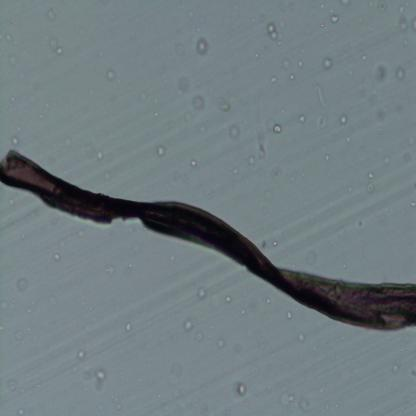Background material: (314, 83, 332, 130), (279, 388, 306, 414), (11, 271, 28, 296), (255, 133, 268, 163), (265, 162, 284, 180), (265, 23, 281, 44), (373, 63, 389, 84), (195, 35, 209, 57), (301, 249, 316, 268), (176, 74, 190, 94), (5, 375, 21, 392), (235, 379, 248, 399), (49, 38, 63, 56), (215, 96, 229, 114), (94, 368, 109, 383), (228, 124, 242, 140), (136, 89, 150, 105), (47, 7, 60, 24), (3, 29, 16, 46), (192, 96, 205, 112), (396, 66, 406, 86), (6, 54, 19, 69), (373, 106, 385, 122), (192, 328, 204, 343), (0, 293, 9, 313), (258, 232, 268, 250), (323, 56, 334, 71), (183, 317, 194, 332), (131, 240, 142, 255), (398, 17, 408, 33), (226, 162, 239, 174), (281, 56, 292, 70), (365, 181, 376, 195), (102, 264, 116, 275), (263, 291, 272, 307), (198, 287, 207, 302), (333, 226, 345, 237), (156, 144, 166, 157), (339, 113, 349, 126), (389, 359, 399, 372), (107, 68, 116, 82), (92, 380, 102, 392), (382, 153, 392, 165), (178, 44, 188, 56), (366, 170, 376, 182), (224, 294, 233, 307), (298, 113, 307, 126), (217, 337, 225, 351), (272, 124, 282, 135), (103, 171, 113, 182), (330, 13, 340, 24), (247, 155, 256, 167), (297, 332, 306, 344), (124, 321, 132, 334), (196, 124, 206, 134), (12, 136, 21, 147), (190, 158, 198, 170), (286, 309, 294, 321), (316, 384, 325, 394), (78, 227, 85, 239), (54, 251, 61, 263), (358, 215, 364, 229), (270, 76, 278, 86), (96, 152, 104, 162), (78, 349, 84, 362), (345, 135, 352, 146), (272, 238, 280, 247), (360, 52, 367, 62), (324, 154, 331, 163), (240, 307, 247, 316), (116, 402, 122, 412), (297, 60, 304, 68), (18, 407, 24, 416), (289, 73, 296, 80), (341, 263, 347, 270), (409, 201, 416, 207), (320, 20, 325, 28), (348, 185, 352, 195), (281, 105, 285, 113), (154, 111, 159, 117), (254, 53, 260, 58), (195, 27, 200, 32), (129, 263, 132, 268), (350, 70, 352, 77)
Cotton: (0, 146, 416, 334)
